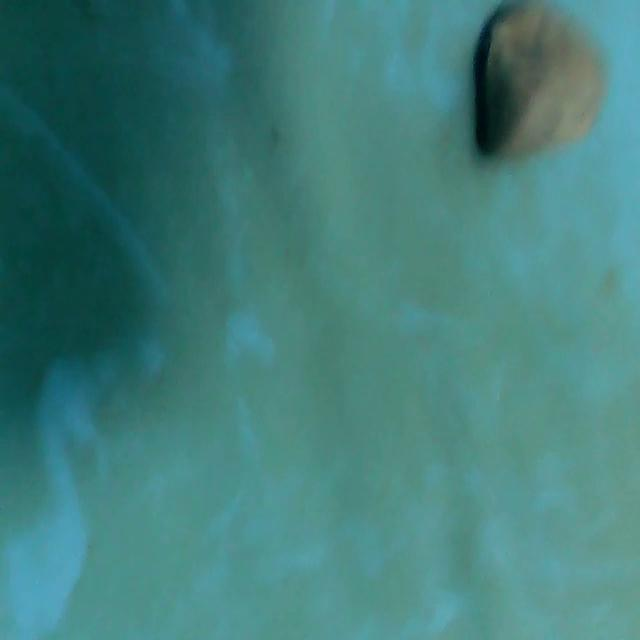rock: (466, 7, 608, 171)
